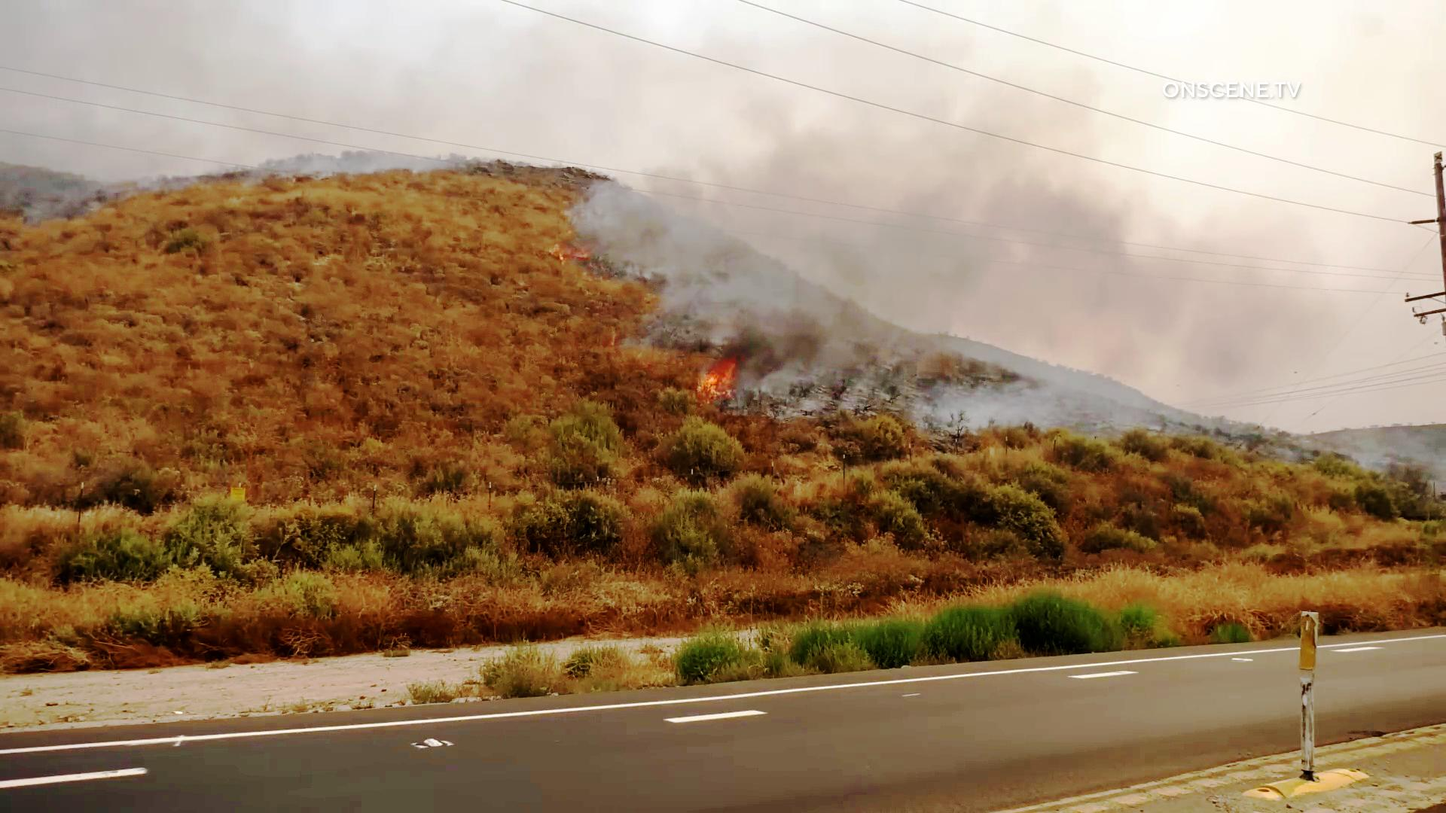fire: (689, 364, 736, 413), (546, 237, 590, 271)
smoke: (642, 124, 1296, 339)
